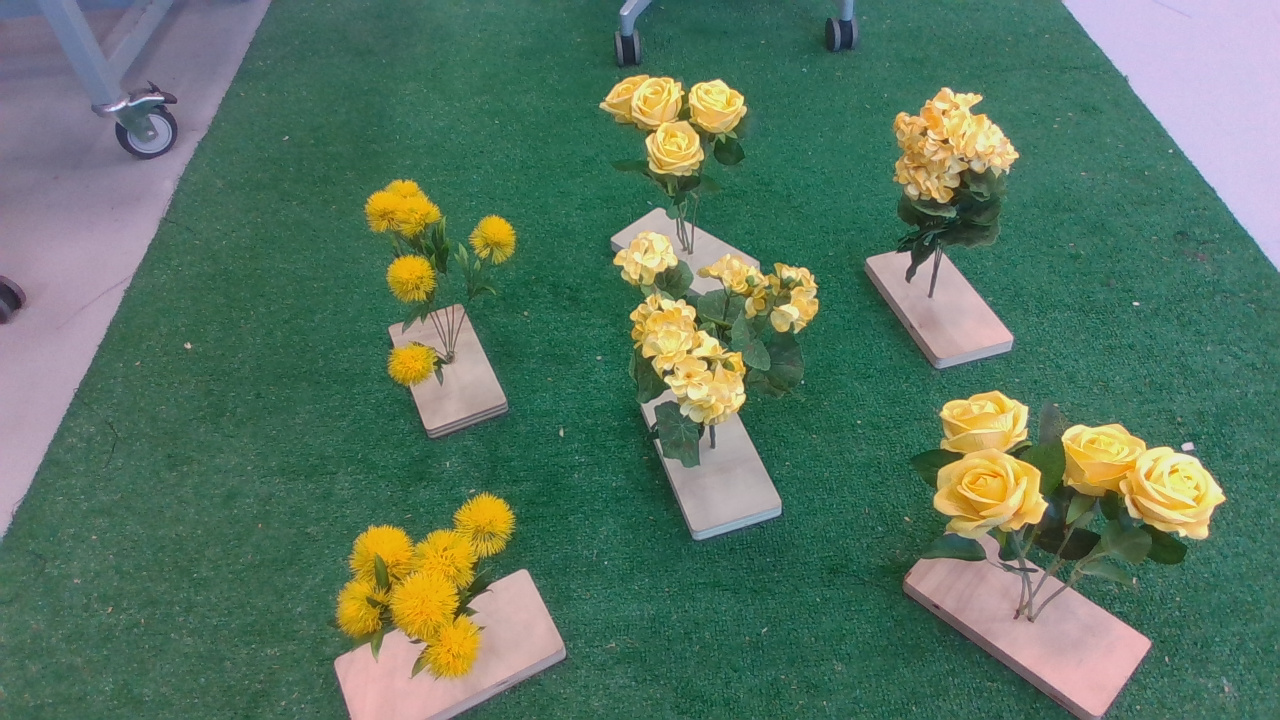dandelion: (341, 173, 529, 395), (326, 493, 536, 690)
geranium: (601, 230, 832, 466), (880, 84, 1025, 280)
rose: (903, 387, 1233, 595), (590, 69, 763, 213)
